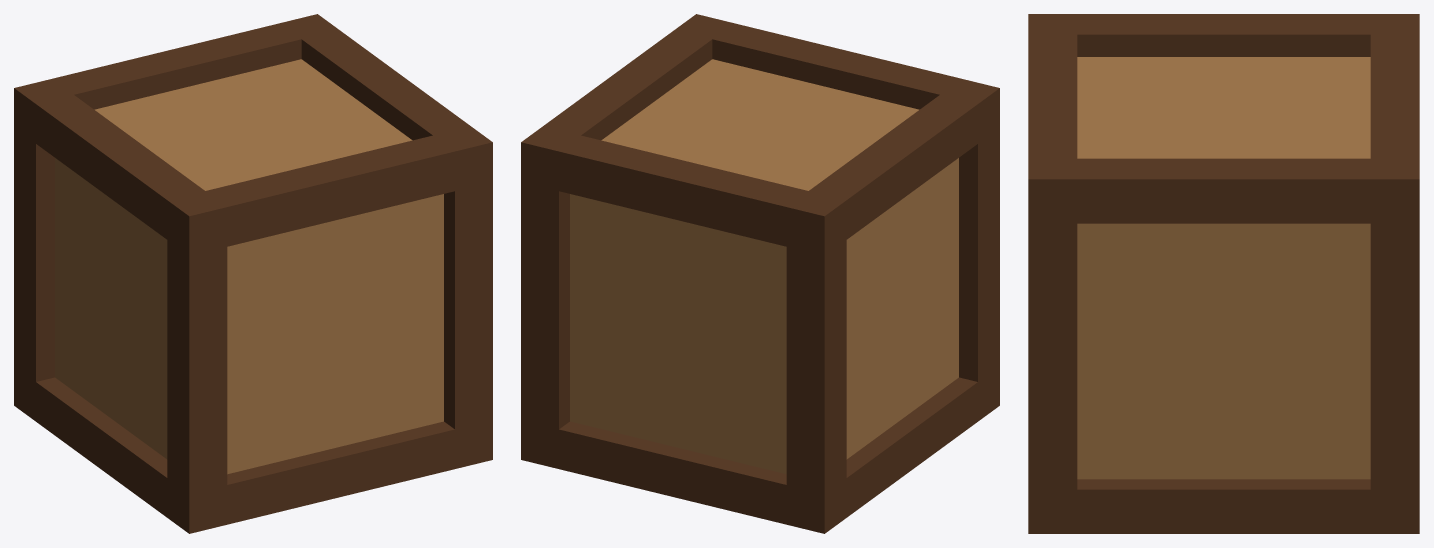
Rendered from crate.glb.
The picture shows the model from 3 angles, left to right: view 1: azimuth 30°, elevation 25°; view 2: azimuth 150°, elevation 25°; view 3: azimuth 270°, elevation 25°; orthographic projection. The views are drawn at different scales.
Visible parts, largest first — view 1: crate; view 2: crate; view 3: crate.
Part boxes in pixels (x1,y1,x2,y2): crate: (14, 14, 492, 533); crate: (521, 14, 999, 533); crate: (1028, 14, 1419, 533).
Size of the model in its own units: 0.8 by 0.8 by 0.8.
